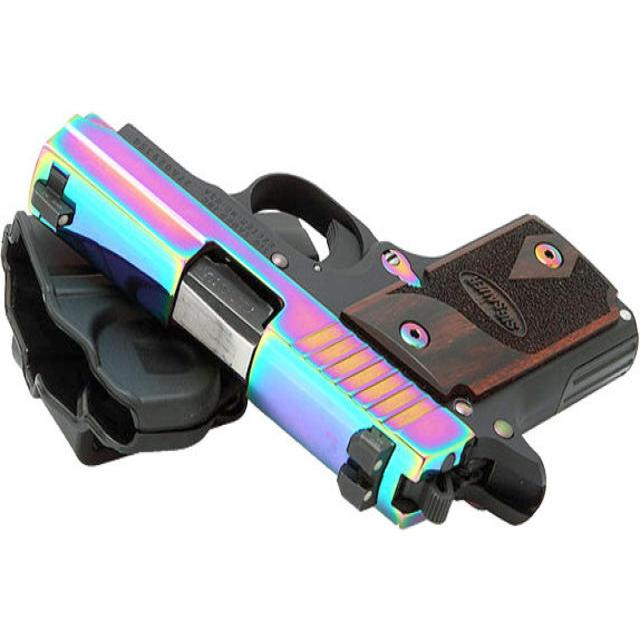HandGun: (30, 113, 640, 530)
